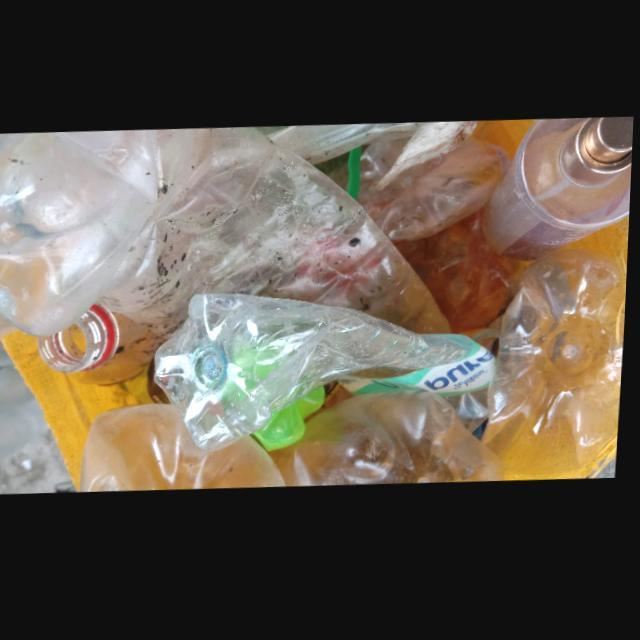plastic: (0, 130, 447, 341), (155, 295, 499, 453), (486, 255, 630, 482), (271, 395, 507, 490), (483, 123, 635, 266), (85, 405, 289, 494), (40, 305, 177, 388)
